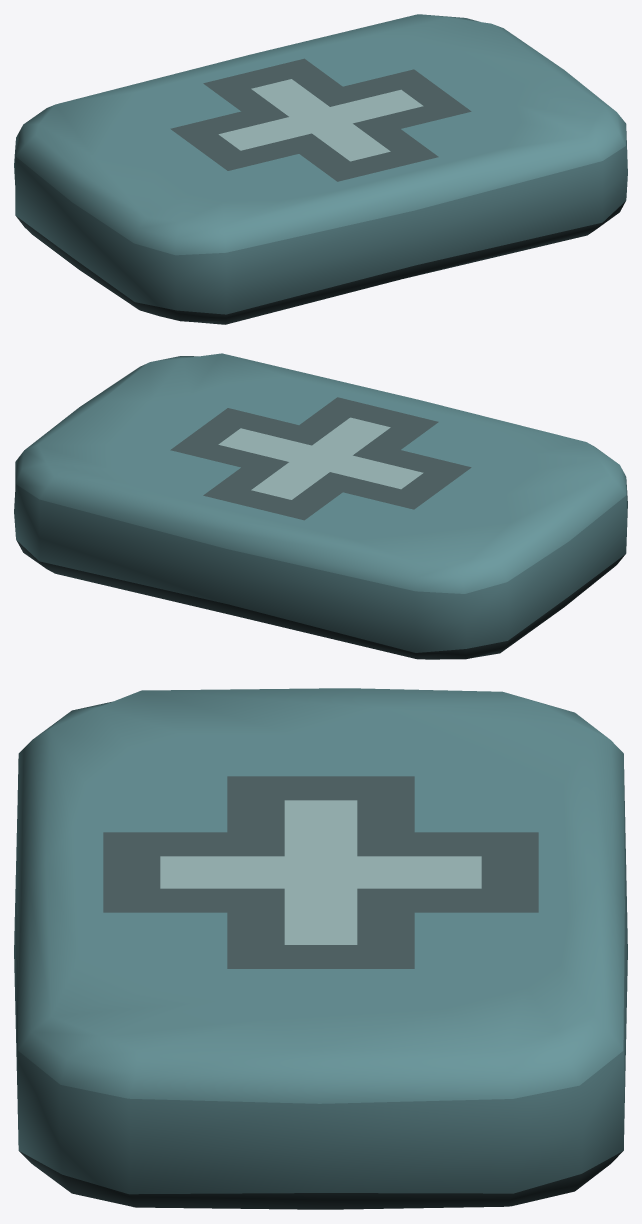
Rendered from item_medicine_industrial_a.obj.
The picture shows the model from 3 angles, top to bottom: view 1: azimuth 30°, elevation 25°; view 2: azimuth 150°, elevation 25°; view 3: azimuth 270°, elevation 25°; orthographic projection. The views are drawn at different scales.
Visible parts, largest first — view 1: item_medicine_industrial_a; view 2: item_medicine_industrial_a; view 3: item_medicine_industrial_a.
Boxes of the visible parts, x1,y1,x2,y2 form: item_medicine_industrial_a: (14,14,627,324); item_medicine_industrial_a: (14,353,627,659); item_medicine_industrial_a: (14,688,627,1209).
Size of the model in its own units: 0.736 by 0.138 by 0.483.
